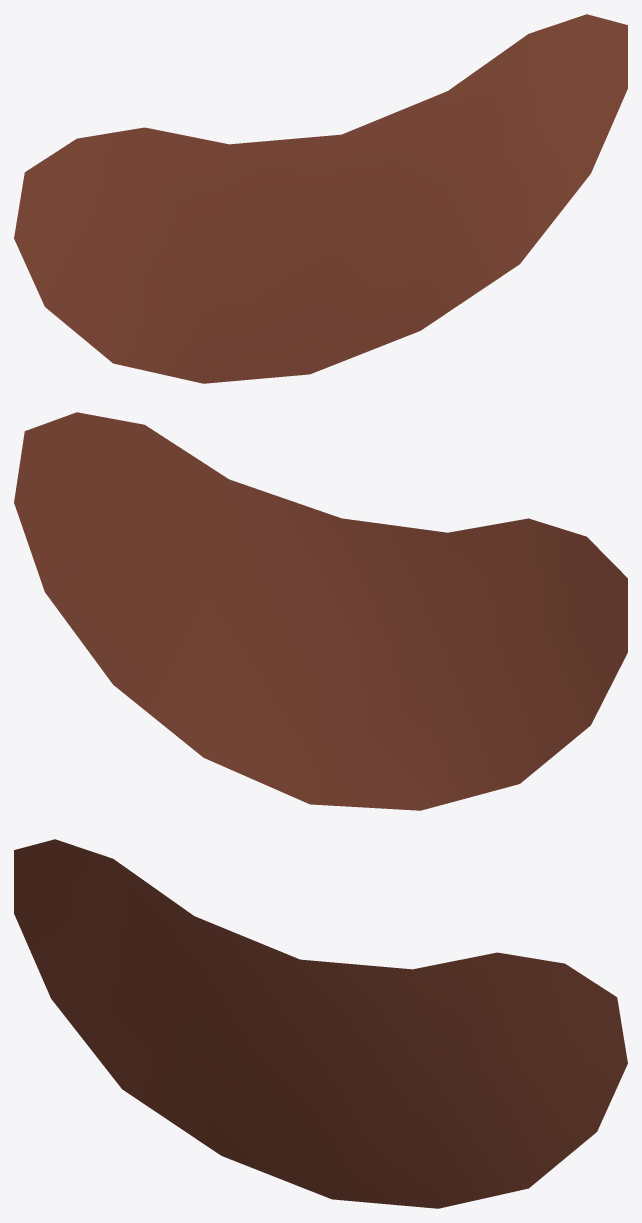
The model's file is Mouth_Yellow_6.fbx.
3 views of the same model, one above another, from view 1: azimuth 30°, elevation 25°; view 2: azimuth 150°, elevation 25°; view 3: azimuth 330°, elevation 25° (orthographic).
Visible parts, largest first — view 1: Mouth_Yellow_6; view 2: Mouth_Yellow_6; view 3: Mouth_Yellow_6.
Part boxes in pixels (<box>): Mouth_Yellow_6: <box>14,14,627,383</box>; Mouth_Yellow_6: <box>14,412,627,810</box>; Mouth_Yellow_6: <box>14,839,627,1208</box>.
Bounding box in the file's own units: 7.46 × 3.64 × 0.6651.
